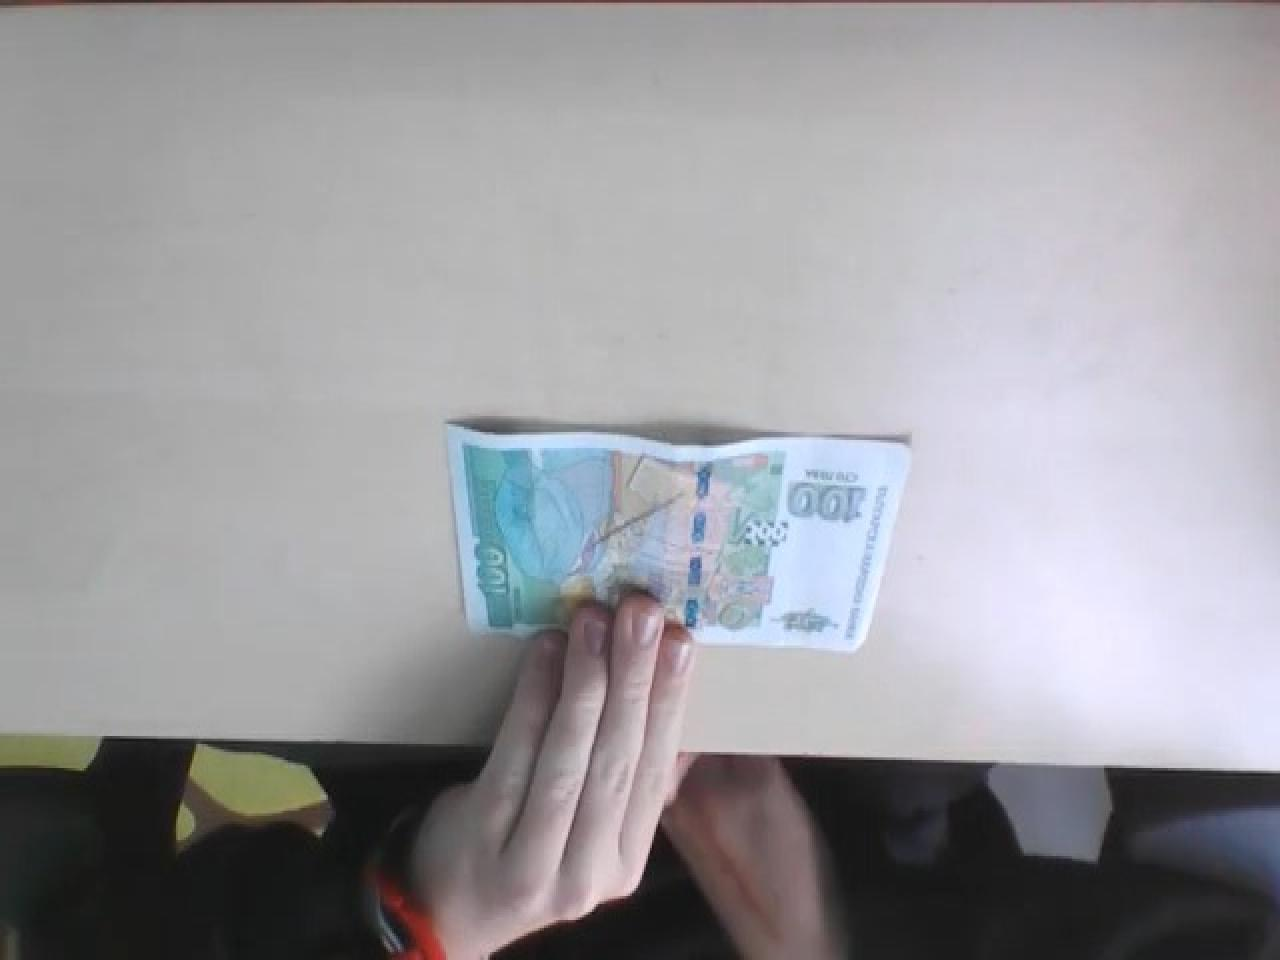100leva: (442, 416, 914, 650)
